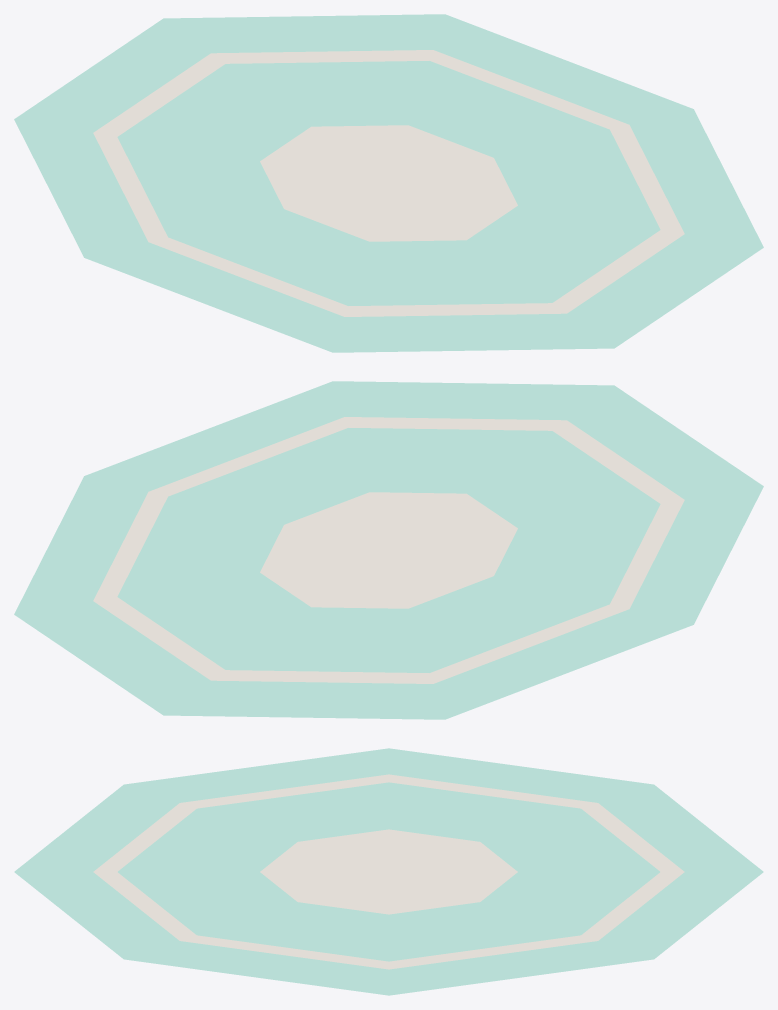
Rendered from rug_bathroom_v01.fbx.
3 renders of one model, top to bottom at view 1: azimuth 30°, elevation 25°; view 2: azimuth 150°, elevation 25°; view 3: azimuth 270°, elevation 25°, orthographic. The views are drawn at different scales.
Visible parts, largest first — view 1: Disc; view 2: Disc; view 3: Disc.
Part boxes in pixels (left/top/right/bottom): Disc: left=14, top=14, right=763, bottom=352; Disc: left=14, top=381, right=763, bottom=719; Disc: left=14, top=748, right=763, bottom=995.
Size of the model in its own units: 139 by 0 by 178.
